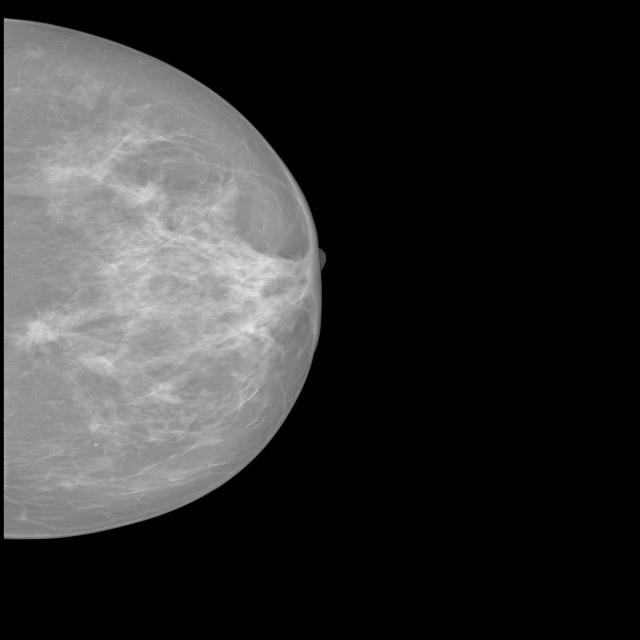Mass_1: (7, 304, 78, 360)
